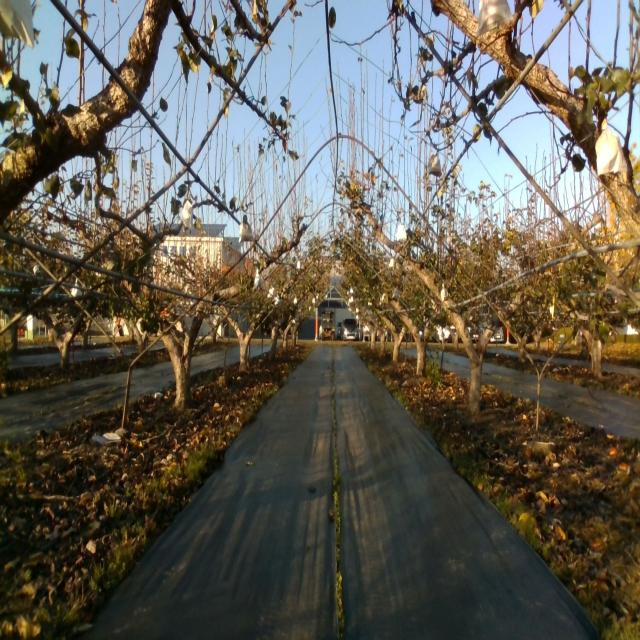pearbags: (594, 118, 630, 178), (478, 0, 514, 37), (182, 200, 194, 230), (239, 220, 253, 243), (428, 153, 441, 177)
